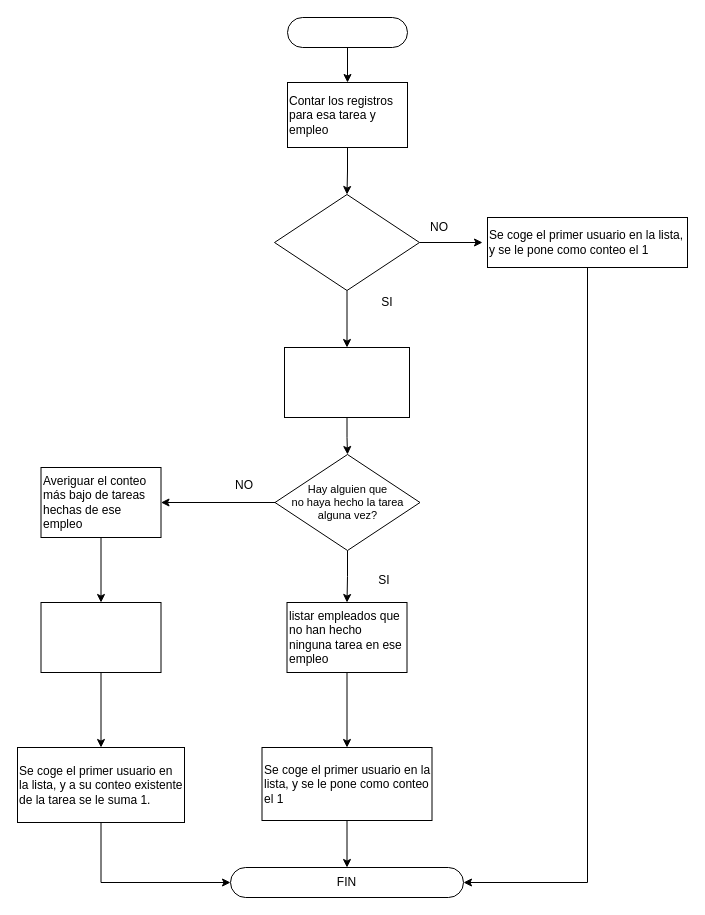
Image size: 705x915. Some labels were removed from this diagram. Each missing label, with the centre of its shape:
Alguien ha hecho la tarea alguna vez?: the point at 347,242
Contar empleados que no han hecho ningún turno en ese empleo pero otros sí: the point at 347,382
Inicio: the point at 347,32
listar empleados con ese número de registro: the point at 100,637
